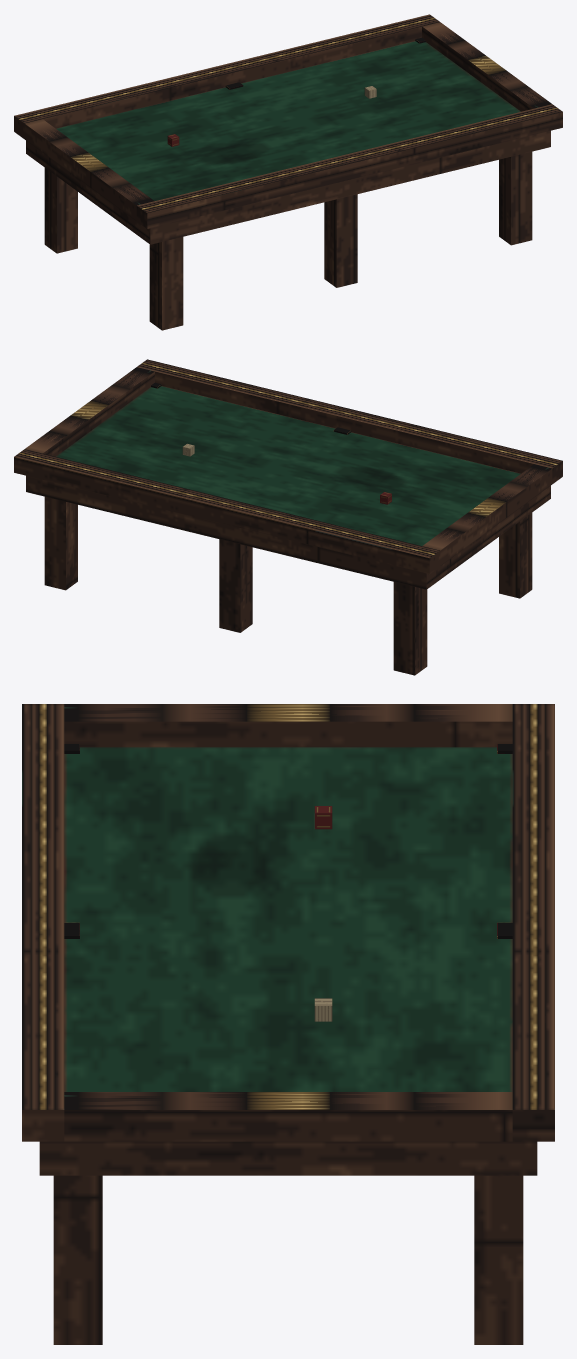
Rendered from Furn_Table_Pool.fbx.
3 renders of one model, top to bottom at view 1: azimuth 30°, elevation 25°; view 2: azimuth 150°, elevation 25°; view 3: azimuth 270°, elevation 25°, orthographic. The views are drawn at different scales.
Visible parts, largest first — view 1: Furn_Table_Pool; view 2: Furn_Table_Pool; view 3: Furn_Table_Pool.
Part boxes in pixels (box(x1,y1,x2,y2)): Furn_Table_Pool: box(14, 14, 562, 330); Furn_Table_Pool: box(14, 359, 562, 675); Furn_Table_Pool: box(22, 704, 554, 1344).
Size of the model in its own units: 2.74 by 0.81 by 1.52.
